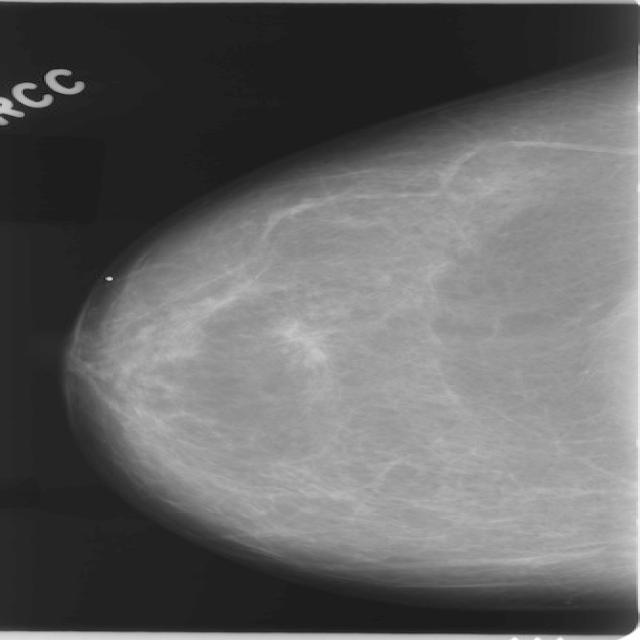tumour: (274, 320, 335, 364)
